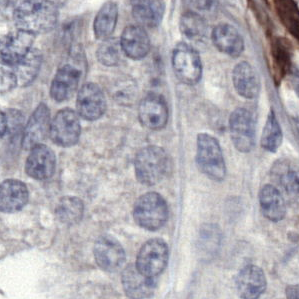Lymphocyte: (264, 36, 294, 85)
